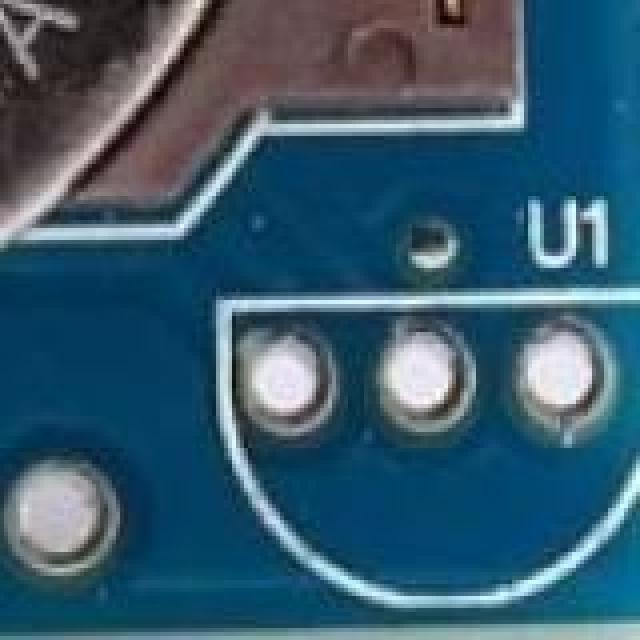battery: (0, 0, 404, 348)
